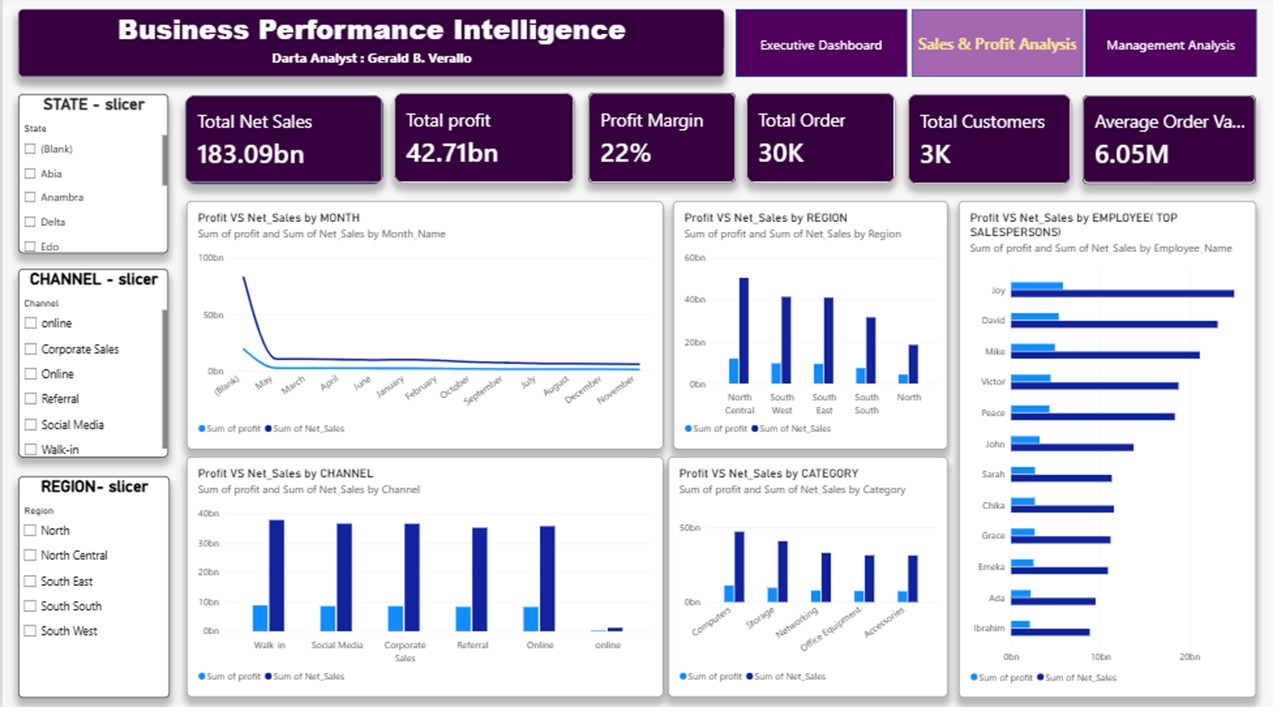

The page's visual inventory and layout, read from the dashboard file:
{"tool":"powerbi","page":{"name":"Sales & Profit Analysis","canvas":[1920,1080],"ordinal":1},"visuals":[{"type":"shape","title":"Business Performance Intelligence","box":[23.8,19.4,1062.7,101.5],"z":0},{"type":"shape","box":[1368,20,258,102],"z":1000},{"type":"shape","box":[1104,20,258,102],"z":2000},{"type":"shape","box":[1630,20,258,102],"z":3000},{"type":"slicer","title":"REGION- slicer","fields":{"Values":["Dim_Employees.Region"]},"box":[24,722,228,334],"z":4000},{"type":"slicer","title":"CHANNEL - slicer","fields":{"Values":["Fact_Sales.Channel"]},"box":[24,410,226,284],"z":5000},{"type":"slicer","title":"STATE - slicer","fields":{"Values":["Dim_Customers.State"]},"box":[24,148,226,240],"z":6000},{"type":"cardVisual","fields":{"Data":["Dim_Employees.Total Net Sales"]},"box":[274.3,149,298.1,133.9],"z":7000},{"type":"cardVisual","fields":{"Data":["Sum(Fact_Sales.profit)"]},"box":[588.3,145,272.2,136.1],"z":8000},{"type":"cardVisual","fields":{"Data":["Dim_Employees.Total Order"]},"box":[1120,145,224.6,136.1],"z":9000},{"type":"cardVisual","fields":{"Data":["Dim_Employees.Total Customers"]},"box":[1363,146.9,246.2,136.1],"z":10000},{"type":"cardVisual","fields":{"Data":["Fact_Sales.Overall margin"]},"box":[881.7,145,222.5,136.1],"z":11000},{"type":"cardVisual","fields":{"Data":["KEY MEASURES.Average Order Value"]},"box":[1626.5,149,261.4,133.9],"z":12000},{"type":"lineChart","title":"Profit VS Net_Sales by MONTH","fields":{"Category":["Dim_Date.Month_Name"],"Y":["Sum(Fact_Sales.profit)","Sum(Fact_Sales.Net_Sales)"]},"box":[276,308,718,374],"z":13000},{"type":"clusteredColumnChart","title":"Profit VS Net_Sales by REGION","fields":{"Category":["Dim_Employees.Region"],"Y":["Sum(Fact_Sales.profit)","Sum(Fact_Sales.Net_Sales)"]},"box":[1010,308,414,374],"z":14000},{"type":"clusteredColumnChart","title":"Profit VS  Net_Sales by CATEGORY","fields":{"Category":["Dim_Products.Category"],"Y":["Sum(Fact_Sales.profit)","Sum(Fact_Sales.Net_Sales)"]},"box":[1002,694,422,362],"z":15000},{"type":"clusteredColumnChart","title":"Profit VS Net_Sales by CHANNEL","fields":{"Category":["Fact_Sales.Channel"],"Y":["Sum(Fact_Sales.profit)","Sum(Fact_Sales.Net_Sales)"]},"box":[276,694,718,362],"z":16000},{"type":"clusteredBarChart","title":"Profit VS Net_Sales by EMPLOYEE( TOP SALESPERSONS)","fields":{"Category":["Dim_Employees.Employee_Name"],"Y":["Sum(Fact_Sales.profit)","Sum(Fact_Sales.Net_Sales)"]},"box":[1440,308,448,748],"z":17000}]}

Visuals, with their boxes in screenshot pixels (x1, y1, x2, y2), scaled from the page's 1920x1080 canvas onto the 1280x720 screenshot:
"Business Performance Intelligence" shape: 16, 13, 724, 81
shape: 912, 13, 1084, 81
shape: 736, 13, 908, 81
shape: 1087, 13, 1259, 81
"REGION- slicer" slicer: 16, 481, 168, 704
"CHANNEL - slicer" slicer: 16, 273, 167, 463
"STATE - slicer" slicer: 16, 99, 167, 259
cardVisual - Dim_Employees.Total Net Sales: 183, 99, 382, 189
cardVisual - Sum(Fact_Sales.profit): 392, 97, 574, 187
cardVisual - Dim_Employees.Total Order: 747, 97, 896, 187
cardVisual - Dim_Employees.Total Customers: 909, 98, 1073, 189
cardVisual - Fact_Sales.Overall margin: 588, 97, 736, 187
cardVisual - KEY MEASURES.Average Order Value: 1084, 99, 1259, 189
"Profit VS Net_Sales by MONTH" lineChart: 184, 205, 663, 455
"Profit VS Net_Sales by REGION" clusteredColumnChart: 673, 205, 949, 455
"Profit VS  Net_Sales by CATEGORY" clusteredColumnChart: 668, 463, 949, 704
"Profit VS Net_Sales by CHANNEL" clusteredColumnChart: 184, 463, 663, 704
"Profit VS Net_Sales by EMPLOYEE( TOP SALESPERSONS)" clusteredBarChart: 960, 205, 1259, 704
